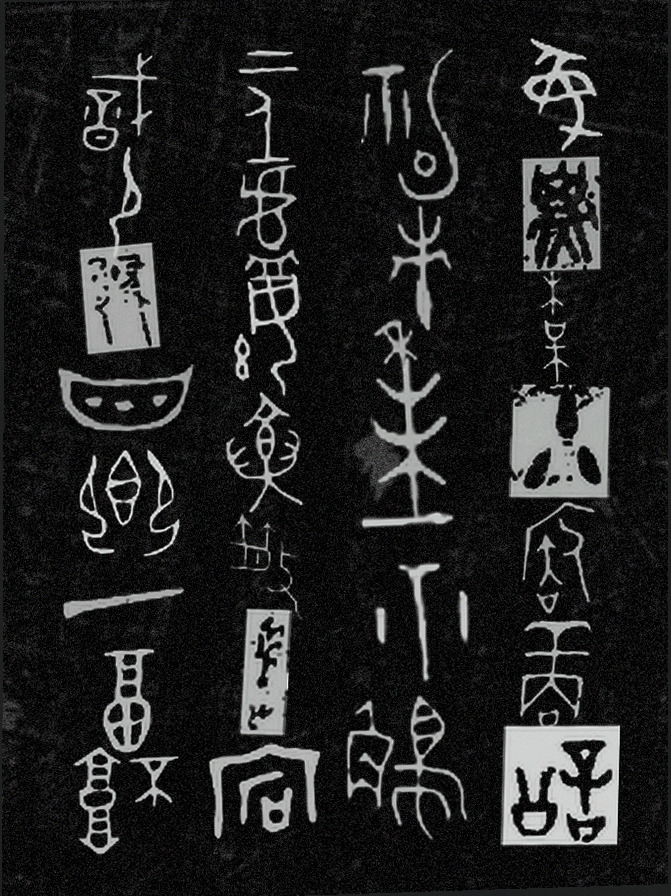char: (356, 508, 473, 689), (342, 690, 471, 847), (356, 46, 463, 206), (497, 719, 624, 852), (370, 200, 456, 376), (367, 352, 452, 526), (505, 378, 614, 504), (71, 741, 182, 859), (76, 446, 183, 561), (206, 739, 324, 843), (221, 388, 307, 517), (53, 361, 197, 438), (517, 154, 605, 276), (518, 34, 605, 157), (76, 239, 164, 357), (229, 270, 304, 401), (520, 499, 598, 620), (226, 508, 305, 624), (518, 614, 593, 732), (77, 50, 162, 154), (232, 162, 302, 286), (234, 46, 302, 169), (236, 603, 295, 741), (98, 643, 157, 757), (59, 584, 187, 623), (105, 142, 146, 260), (536, 267, 573, 386)
